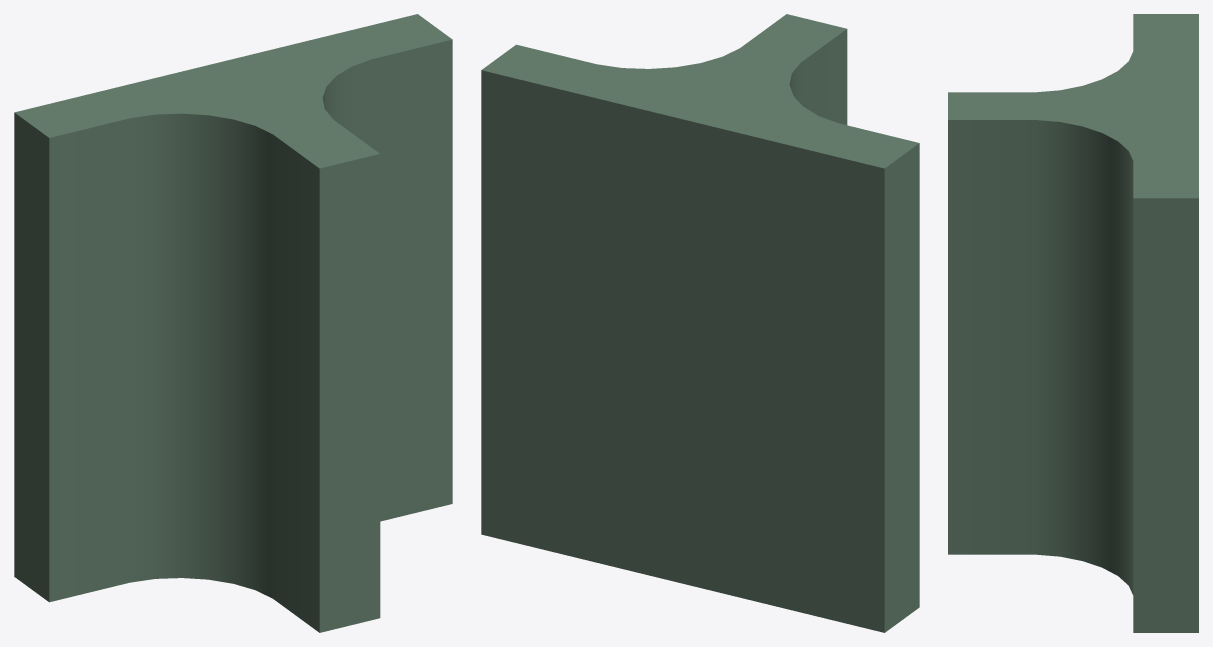
The model's file is W2_WallCorner_Round1C.fbx.
3 views of the same model, side by side, from view 1: azimuth 30°, elevation 25°; view 2: azimuth 150°, elevation 25°; view 3: azimuth 270°, elevation 25° (orthographic). The views are drawn at different scales.
Parts seen in each view (by area): view 1: W2_WallCorner_Round1C.001; view 2: W2_WallCorner_Round1C.001; view 3: W2_WallCorner_Round1C.001.
Boxes of the visible parts, x1,y1,x2,y2 form: W2_WallCorner_Round1C.001: [14, 14, 452, 632]; W2_WallCorner_Round1C.001: [481, 14, 919, 632]; W2_WallCorner_Round1C.001: [948, 14, 1198, 632].
Size of the model in its own units: 2 by 2.2 by 1.15.
